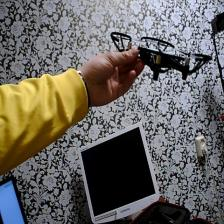drone: (103, 23, 218, 86)
